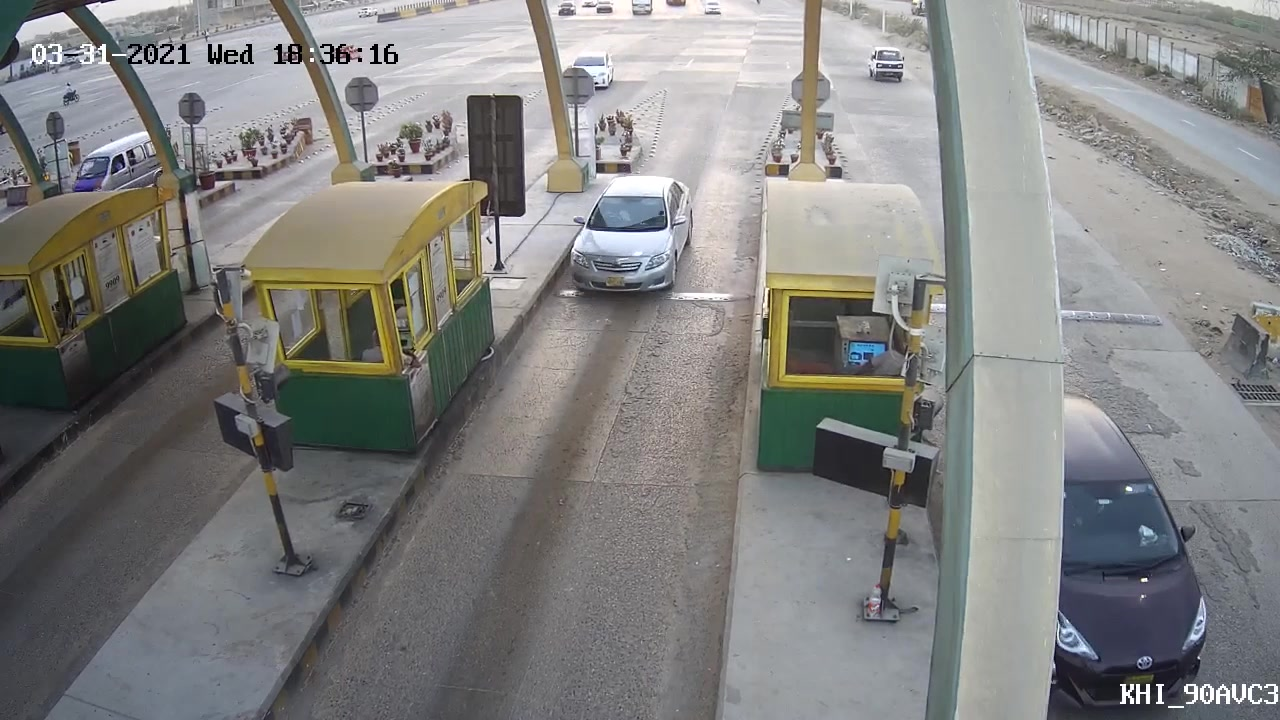F1: (553, 160, 709, 318)
